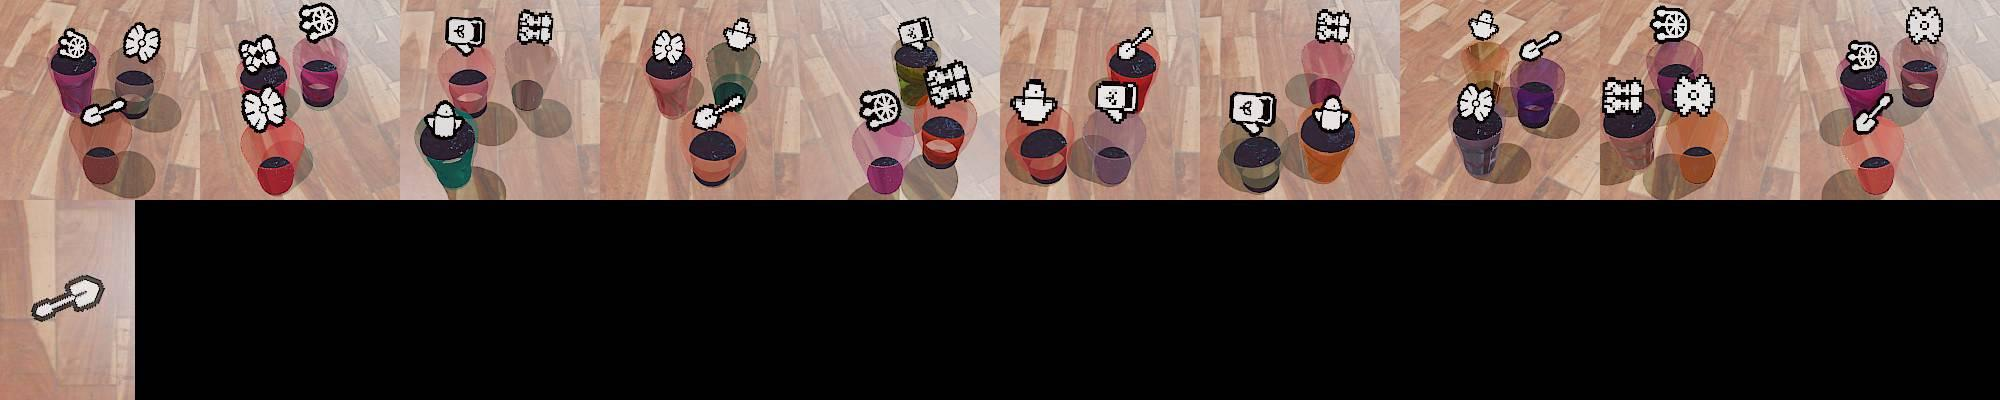icon: (31, 272, 107, 321), (924, 59, 974, 111), (1012, 77, 1061, 126), (241, 84, 287, 133), (1229, 90, 1276, 137), (1671, 71, 1716, 120), (1602, 76, 1650, 119), (1093, 79, 1139, 123), (857, 88, 902, 130), (1852, 91, 1894, 135), (424, 97, 466, 138), (444, 16, 486, 57), (1456, 81, 1496, 124), (237, 34, 280, 74), (122, 21, 160, 64), (1906, 4, 1944, 46), (297, 3, 337, 42), (1650, 5, 1690, 44), (81, 96, 130, 126), (1519, 29, 1563, 62), (517, 8, 555, 46), (651, 28, 687, 67), (1315, 7, 1351, 44), (1314, 92, 1348, 131), (722, 17, 757, 51), (1118, 26, 1153, 60), (897, 17, 933, 50), (56, 28, 90, 62), (1845, 40, 1880, 73), (1468, 10, 1501, 41), (692, 103, 723, 131)
